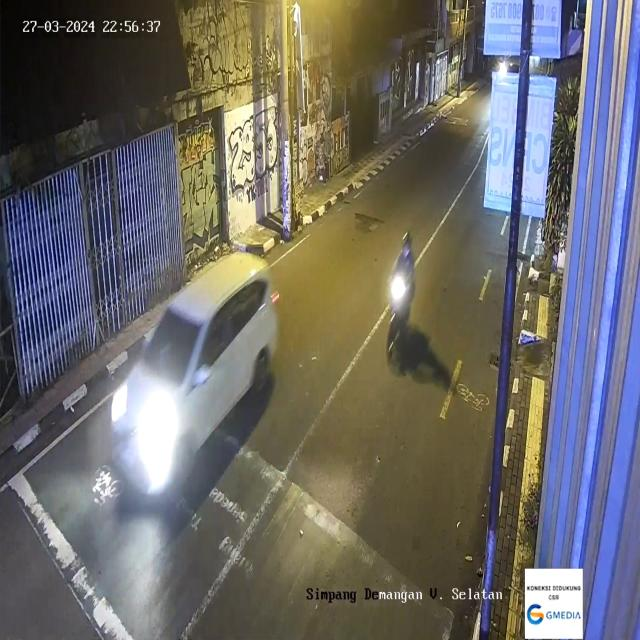car: (99, 251, 285, 483)
motorcycle: (382, 226, 421, 353)
